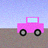vehicle: (17, 17, 43, 36)
